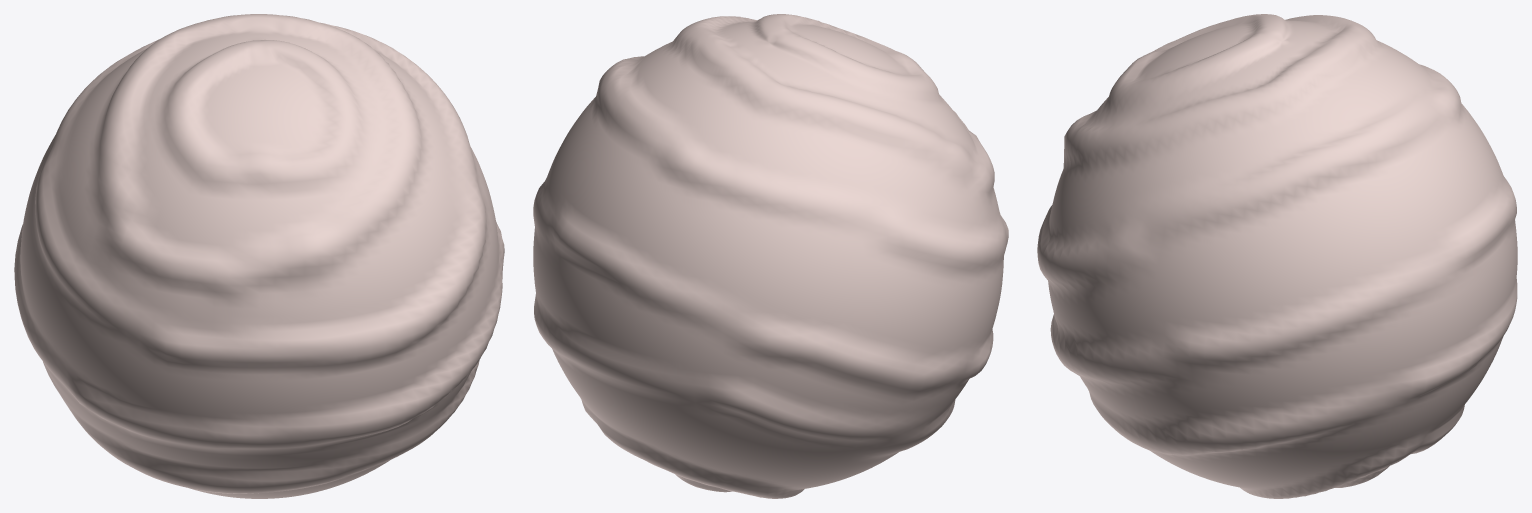
Rendered from marble1.glb.
The picture shows the model from 3 angles, left to right: view 1: azimuth 30°, elevation 25°; view 2: azimuth 150°, elevation 25°; view 3: azimuth 270°, elevation 25°; orthographic projection.
Visible parts, largest first — view 1: Sphere; view 2: Sphere; view 3: Sphere.
Part boxes in pixels (bbox=[...]): Sphere: bbox=[14, 14, 504, 498]; Sphere: bbox=[533, 14, 1008, 498]; Sphere: bbox=[1037, 14, 1517, 498].
Bounding box in the file's own units: 2.03 × 2.06 × 2.04.
